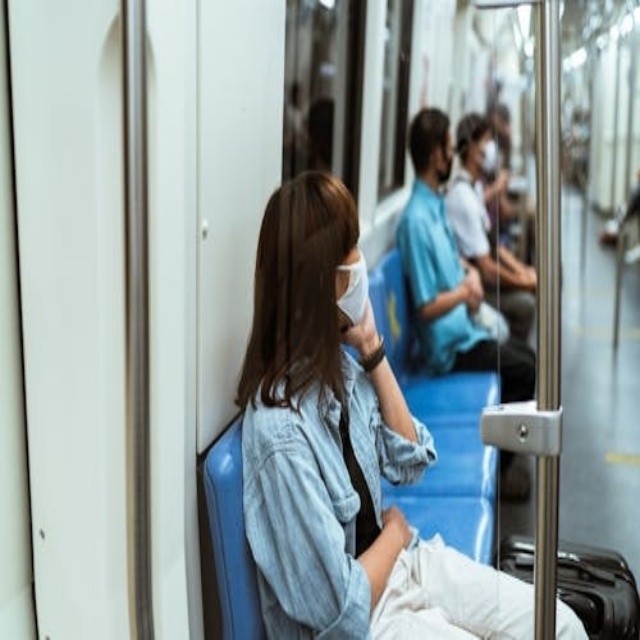Mascara: (334, 249, 370, 327), (477, 140, 498, 174), (435, 154, 453, 184)
Sin_guantes: (380, 496, 412, 550)
